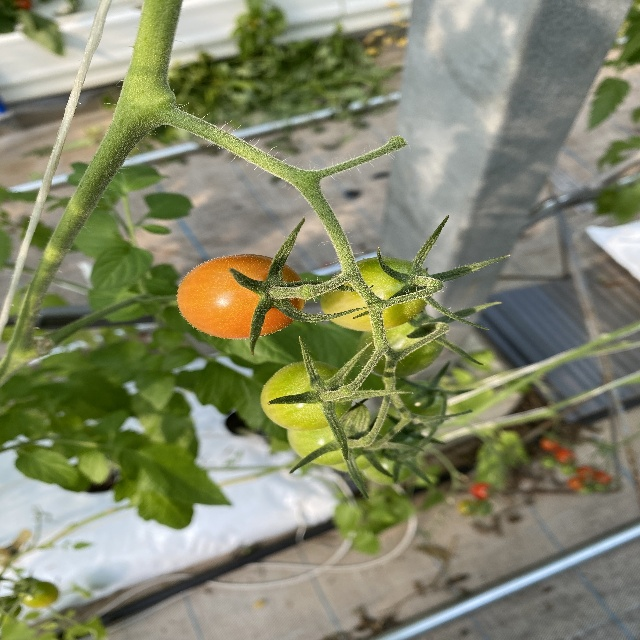l_green: (318, 256, 434, 332), (260, 359, 351, 432), (356, 312, 446, 378), (287, 411, 368, 464), (391, 381, 448, 420), (326, 432, 382, 471), (364, 448, 417, 484)
l_half_ripened: (174, 254, 308, 338)
